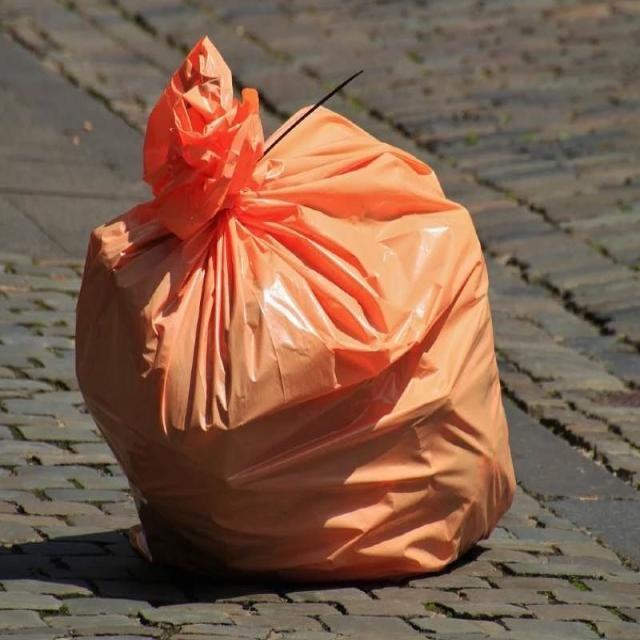sampah-detection: (74, 33, 516, 589)
